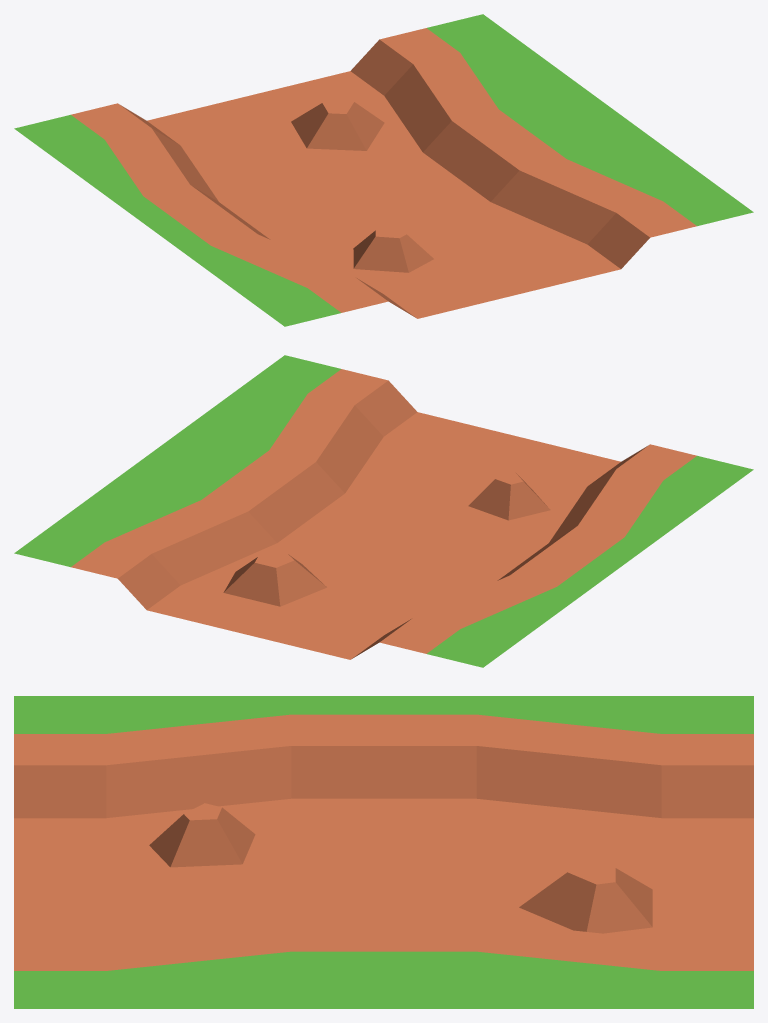
Rendered from ground_pathRocks.glb.
3 renders of one model, top to bottom at view 1: azimuth 30°, elevation 25°; view 2: azimuth 150°, elevation 25°; view 3: azimuth 270°, elevation 25°, orthographic. The views are drawn at different scales.
Parts seen in each view (by area): view 1: ground_pathRocks; view 2: ground_pathRocks; view 3: ground_pathRocks.
Part boxes in pixels (x1,y1,x2,y2): ground_pathRocks: (14, 14, 753, 326); ground_pathRocks: (14, 355, 753, 667); ground_pathRocks: (14, 696, 753, 1008).
Size of the model in its own units: 1 by 0.05 by 1.
